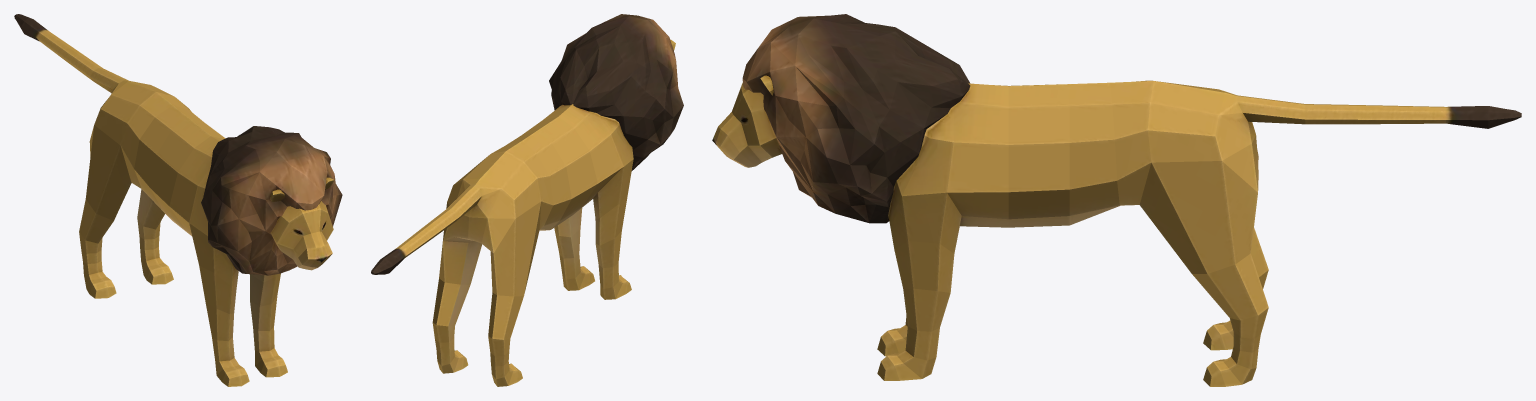
File: lion.glb
3 renders of one model, left to right at view 1: azimuth 30°, elevation 25°; view 2: azimuth 150°, elevation 25°; view 3: azimuth 270°, elevation 25°, orthographic. The views are drawn at different scales.
Parts seen in each view (by area): view 1: Lion_mesh; view 2: Lion_mesh; view 3: Lion_mesh.
Part boxes in pixels (x1,y1,x2,y2): Lion_mesh: [14, 14, 342, 386]; Lion_mesh: [371, 14, 683, 386]; Lion_mesh: [712, 14, 1521, 386].
Bounding box in the file's own units: 3.4 × 6.76 × 14.46.
1 material, 1 textured.
